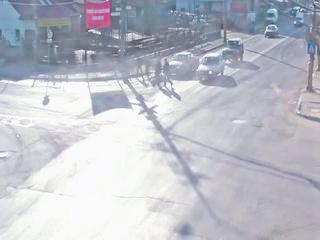Car: (199, 52, 225, 83), (171, 51, 199, 79), (224, 39, 242, 62), (266, 6, 278, 26), (294, 13, 305, 28), (264, 26, 278, 37), (291, 6, 301, 17)
